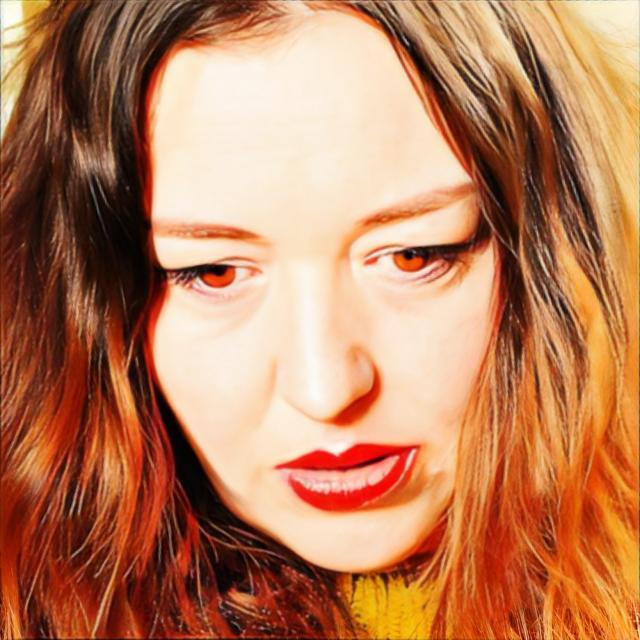sad: (138, 24, 500, 578)
